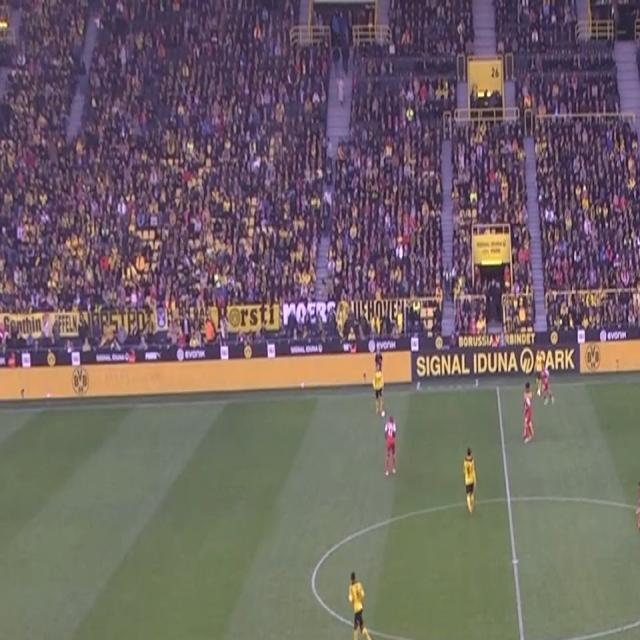ball: (381, 408, 386, 418)
